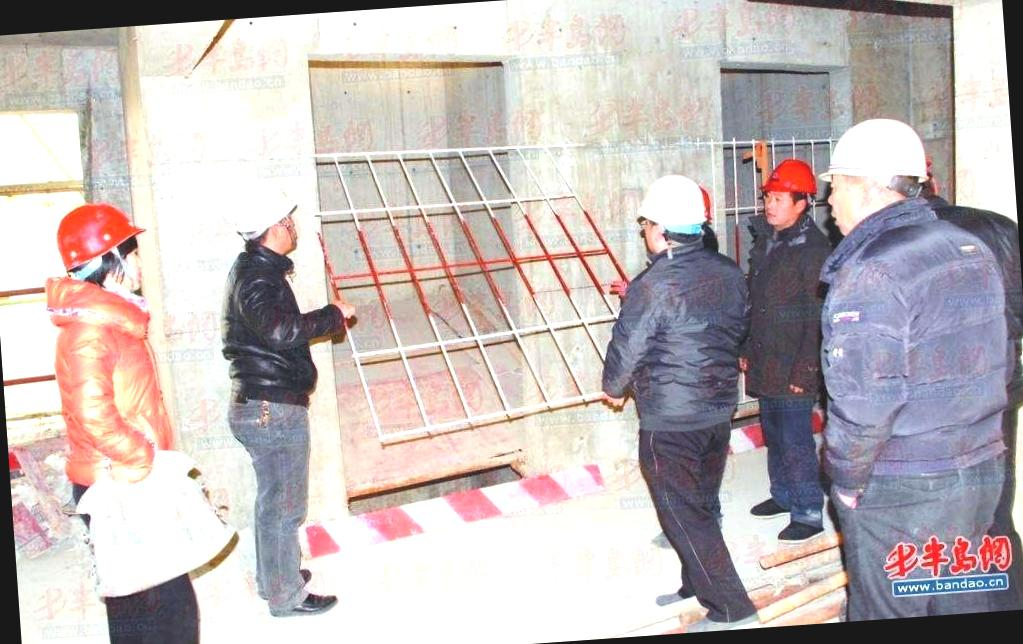helmet: (820, 111, 936, 180), (54, 198, 138, 272), (225, 180, 304, 251), (631, 171, 708, 239)
no_vest: (816, 194, 1018, 478), (50, 282, 174, 478), (642, 260, 745, 428), (225, 245, 324, 402), (744, 227, 824, 394)
person: (796, 102, 1016, 622), (33, 185, 230, 644), (597, 162, 765, 636), (206, 171, 367, 615), (729, 149, 846, 556)
